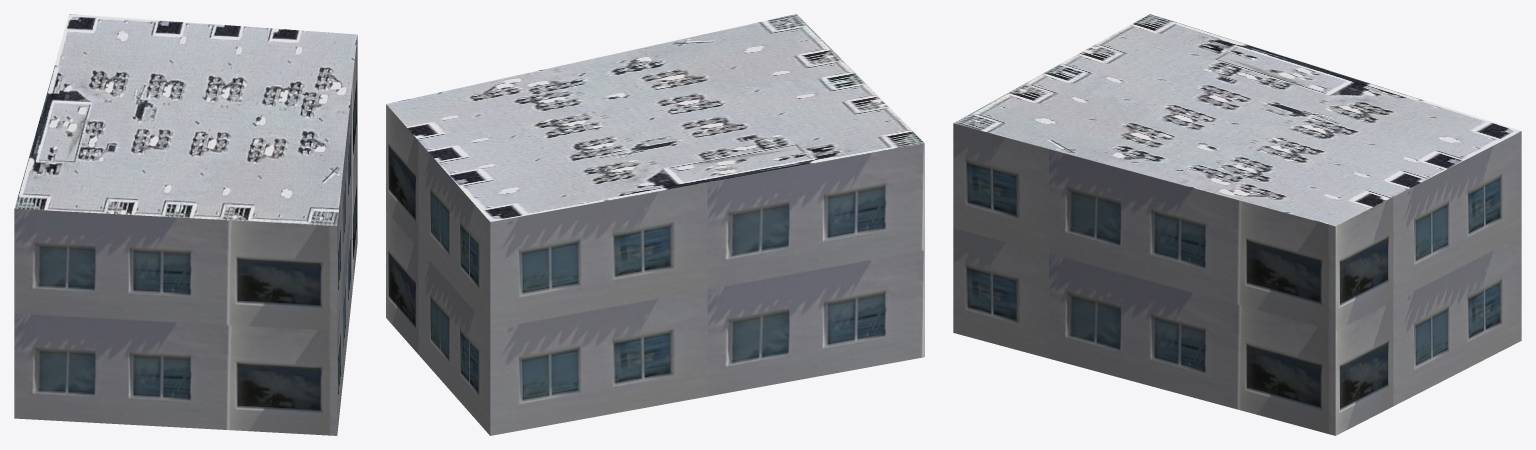
The model's file is ResTex__1079.fbx.
3 renders of one model, left to right at view 1: azimuth 30°, elevation 25°; view 2: azimuth 150°, elevation 25°; view 3: azimuth 270°, elevation 25°, orthographic. The views are drawn at different scales.
Visible parts, largest first — view 1: CityEngineMaterial_10_m, CityEngineMaterial_8_m; view 2: CityEngineMaterial_10_m, CityEngineMaterial_8_m; view 3: CityEngineMaterial_10_m, CityEngineMaterial_8_m.
Boxes of the visible parts, left/top/right/bottom form: CityEngineMaterial_10_m: left=14, top=35, right=357, bottom=435; CityEngineMaterial_8_m: left=14, top=14, right=357, bottom=225; CityEngineMaterial_10_m: left=386, top=104, right=924, bottom=435; CityEngineMaterial_8_m: left=386, top=14, right=924, bottom=221; CityEngineMaterial_10_m: left=953, top=123, right=1521, bottom=435; CityEngineMaterial_8_m: left=954, top=14, right=1520, bottom=226.
Bounding box in the file's own units: 13.04 × 6 × 14.74.
Materials: 2 (2 with a texture image).
